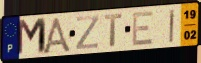A: (40, 15, 73, 54)
E: (131, 10, 155, 48)
I: (168, 8, 176, 45)
M: (15, 17, 47, 58)
T: (103, 12, 124, 48)
Z: (74, 14, 101, 51)
